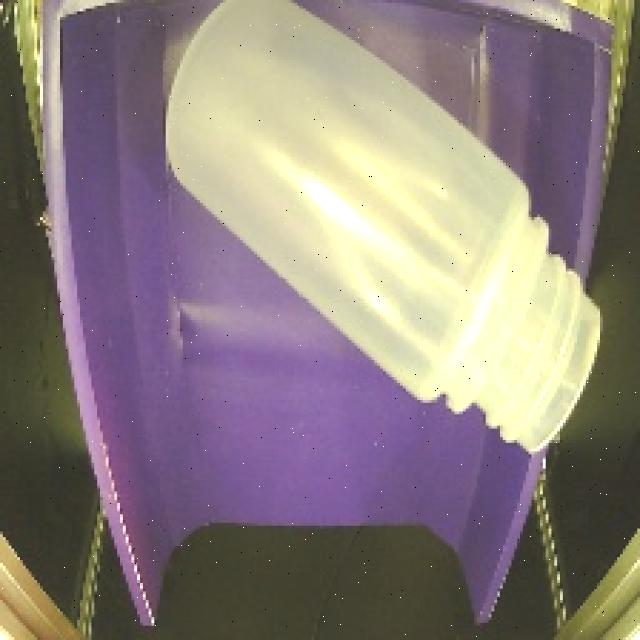plastic: (147, 0, 617, 473)
